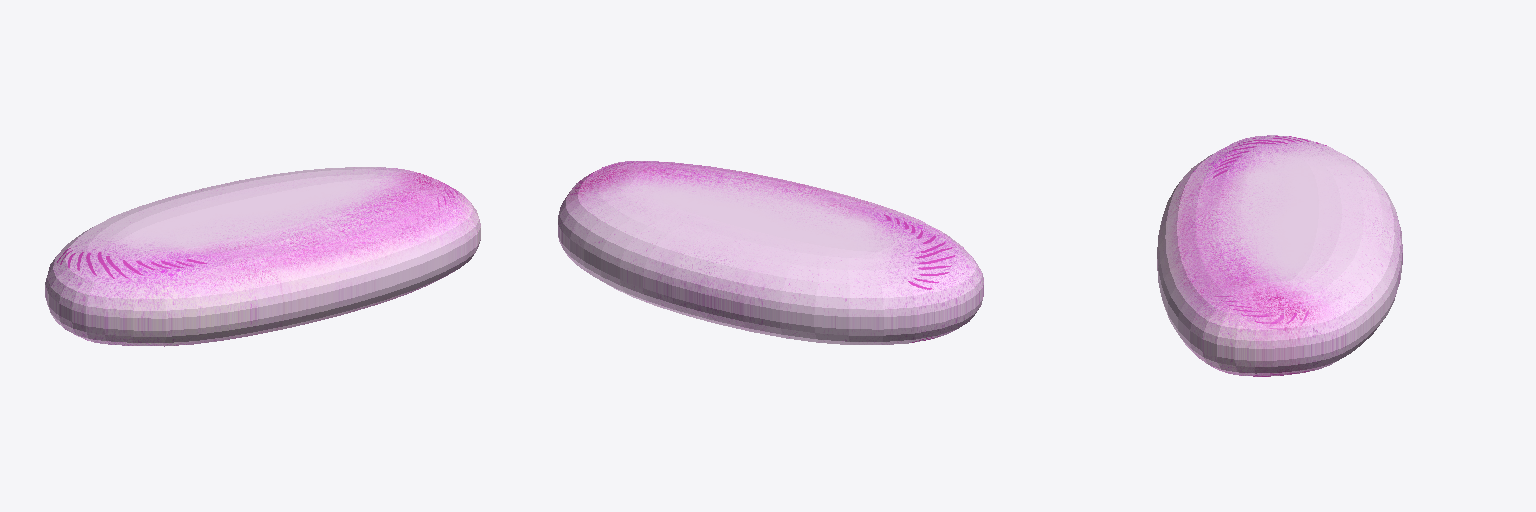
3 renders of one model, left to right at view 1: azimuth 30°, elevation 25°; view 2: azimuth 150°, elevation 25°; view 3: azimuth 270°, elevation 25°, orthographic.
Visible parts, largest first — view 1: Cloud_Maru_004; view 2: Cloud_Maru_004; view 3: Cloud_Maru_004.
Part boxes in pixels (x1,y1,x2,y2): Cloud_Maru_004: (45,167,480,346); Cloud_Maru_004: (558,161,983,344); Cloud_Maru_004: (1157,135,1402,376).
Bounding box in the file's own units: 0.7762 × 0.149 × 0.4075.
1 materials, 1 textured.